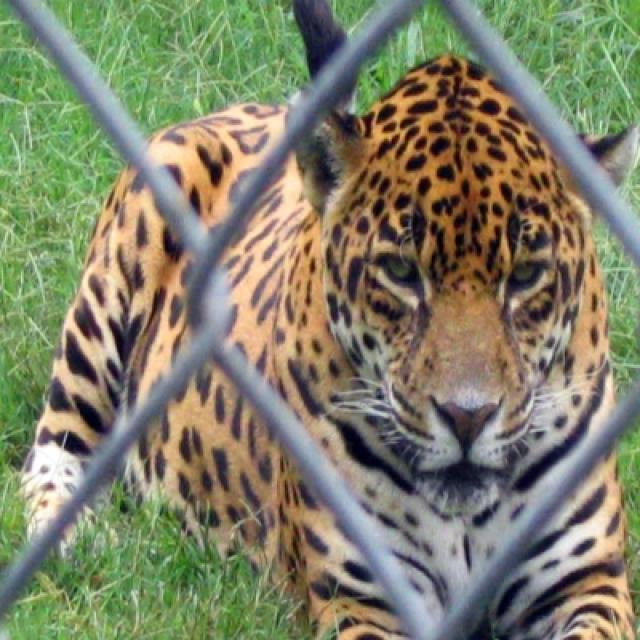Jaguar: (10, 54, 638, 638)
